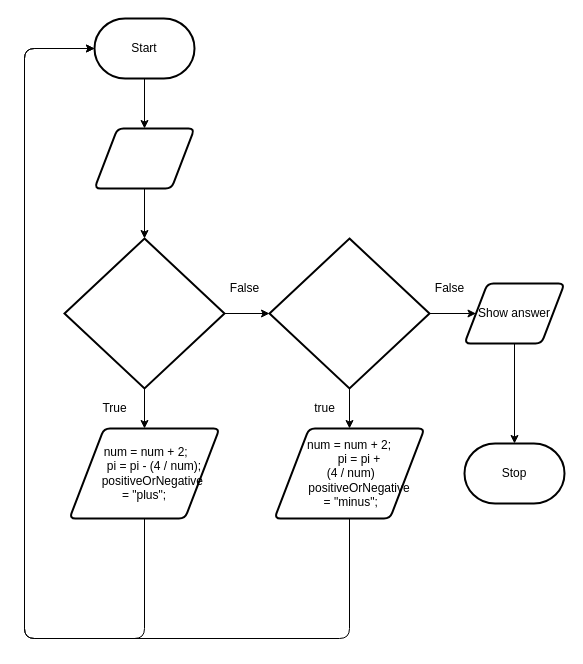
This 583x664 diagram has some shape labels left out. Each missing label, with the box of its shape:
else if (positiveOrNegative == "plus"): (268, 237, 430, 389)
User inputs integer: (93, 127, 195, 189)
while (numChosen > 1) { if (positiveOrNegative == "minus") {: (63, 237, 225, 389)
